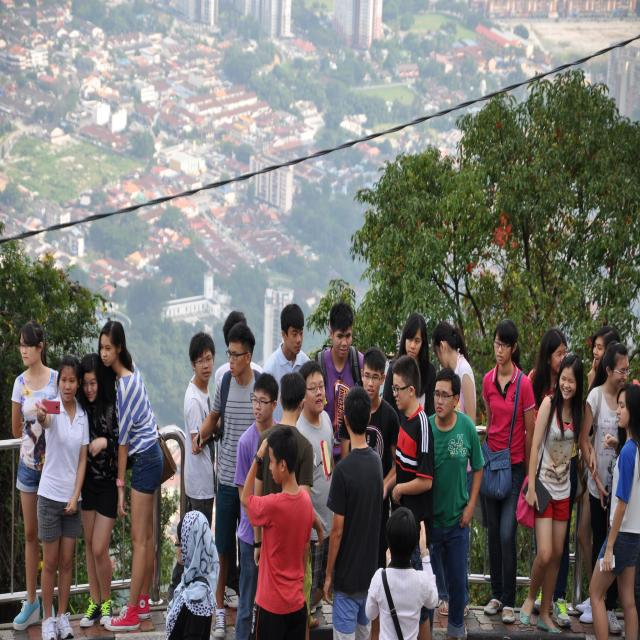body: (98, 318, 179, 631), (189, 320, 263, 640), (515, 349, 588, 637), (253, 368, 326, 640), (238, 424, 317, 640), (423, 366, 485, 640), (481, 316, 534, 624), (36, 351, 91, 640), (324, 385, 384, 640), (10, 321, 59, 632), (524, 326, 574, 626), (582, 340, 630, 632), (72, 347, 120, 629), (588, 383, 640, 640), (232, 370, 280, 640), (294, 358, 334, 640), (382, 354, 435, 548), (364, 505, 438, 640), (431, 321, 478, 508), (313, 301, 365, 469), (180, 331, 218, 533), (164, 508, 221, 640), (261, 301, 316, 428), (360, 345, 401, 489), (386, 312, 436, 420), (582, 324, 621, 436), (222, 302, 248, 336), (213, 356, 230, 398), (223, 580, 241, 610)
